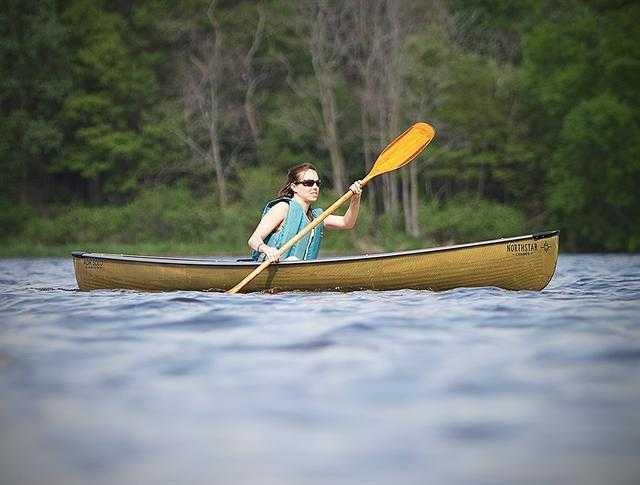kayak: (68, 230, 561, 295)
